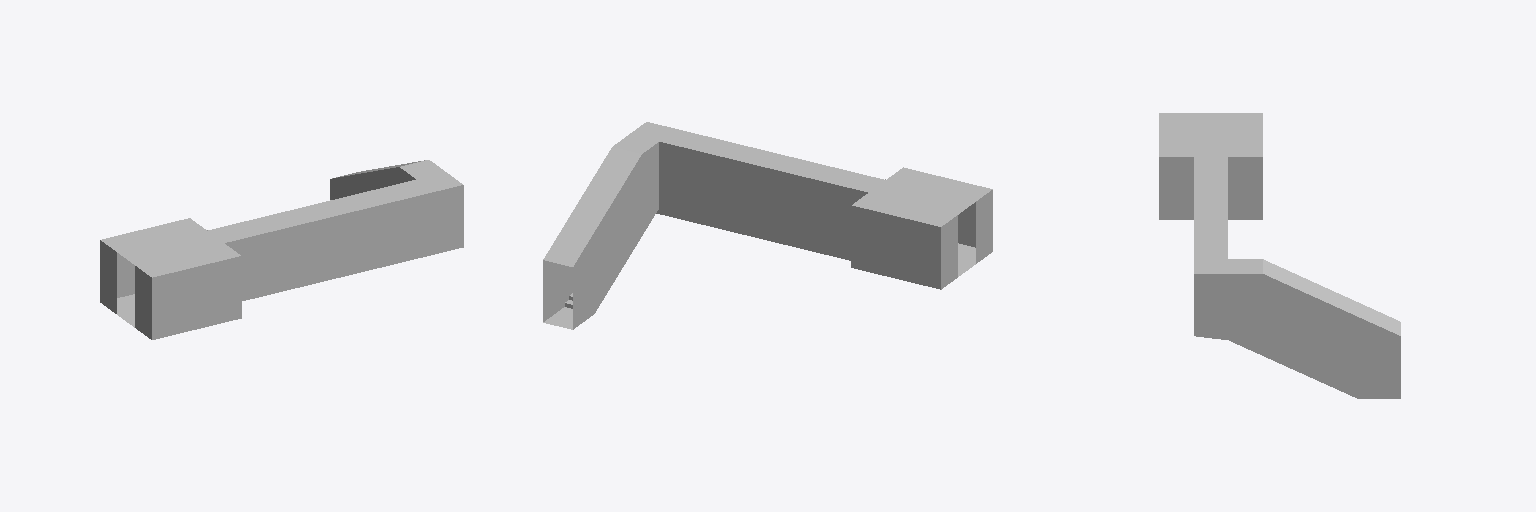
Rendered from floor_start.obj.
3 views of the same model, side by side, from view 1: azimuth 30°, elevation 25°; view 2: azimuth 150°, elevation 25°; view 3: azimuth 270°, elevation 25° (orthographic).
Size of the model in its own units: 1100 by 400 by 700.